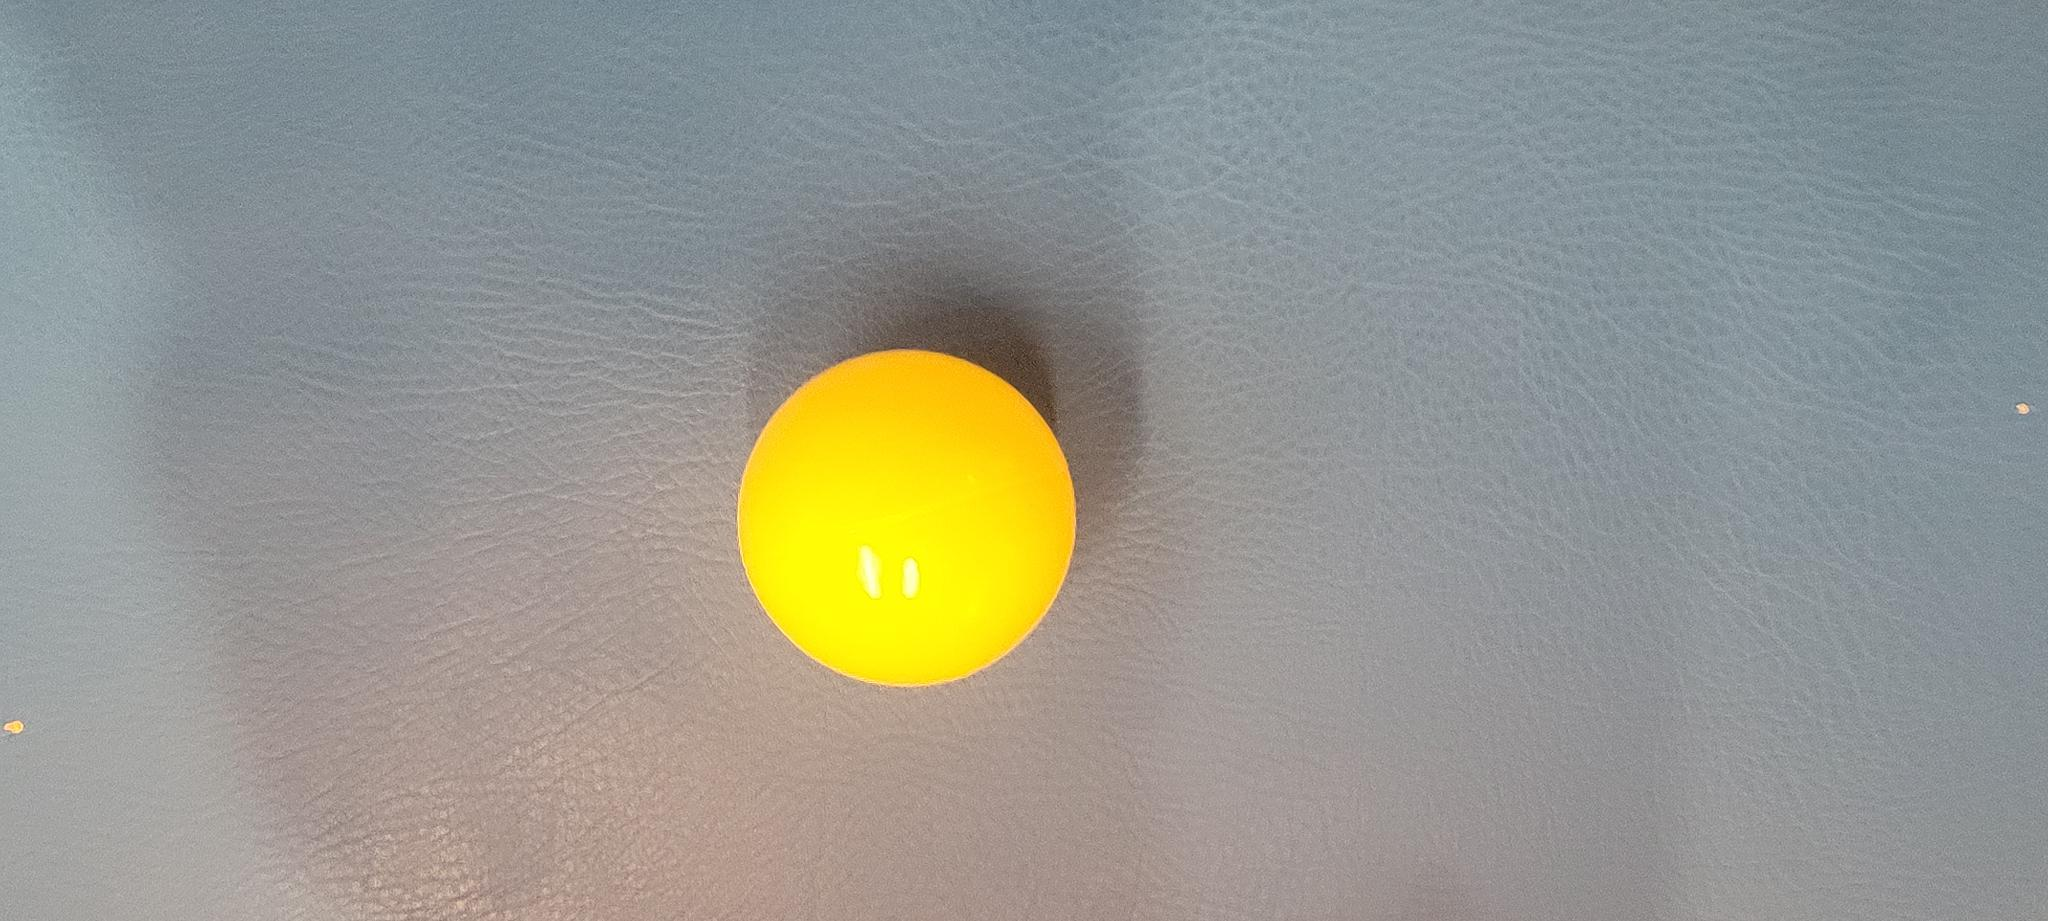Yellow-Ball: (235, 732, 573, 921)
